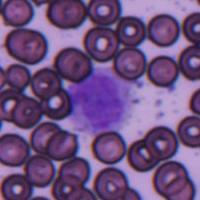M: (67, 67, 135, 134)
